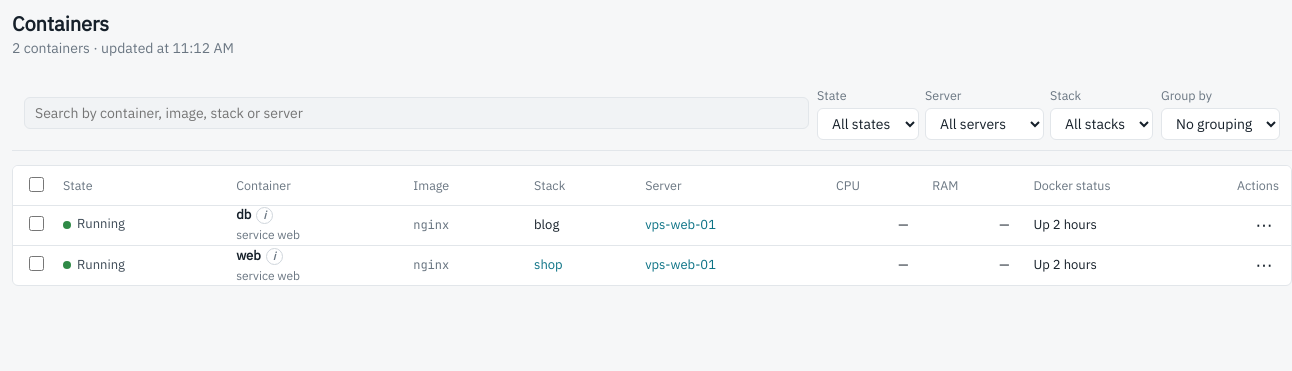
Test case: Containers › groups the table by stack or server
Expected: the text "db" is shown, [236,206,251,225]
Select "Stack" in the dropdown labelled "Group by" at {"x": 1220, "y": 124}, box [1161,108,1280,140]
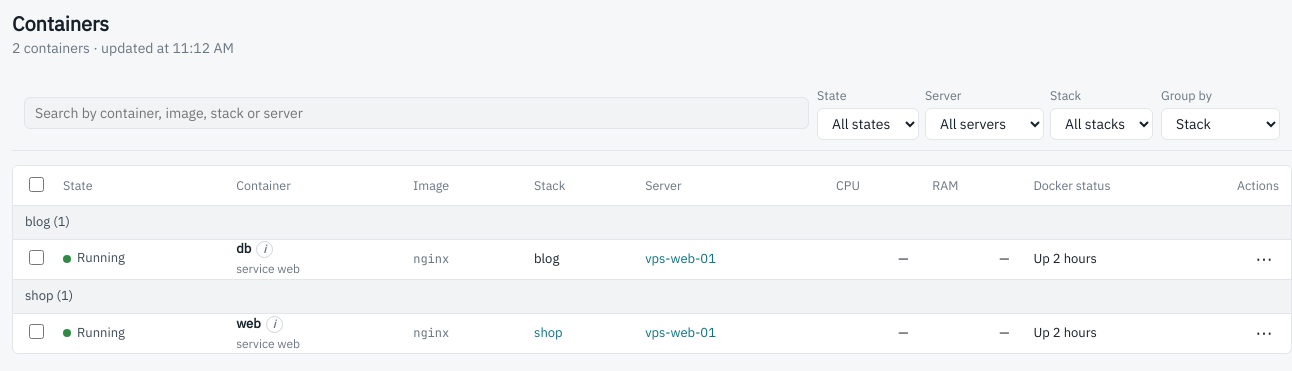
Expected: the text "shop (1)" is shown, [13,279,1291,313]
Expected: the text "blog (1)" is shown, [13,205,1291,239]
Select "Server" in the dropdown labelled "Group by" at {"x": 1220, "y": 124}, box [1161,108,1280,140]
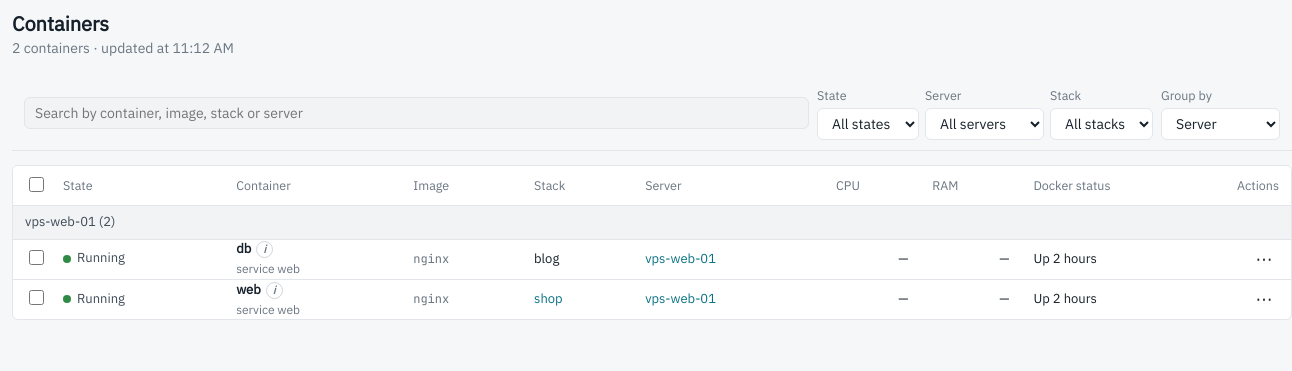
Expected: the text "vps-web-01 (2)" is shown, [13,205,1291,239]
